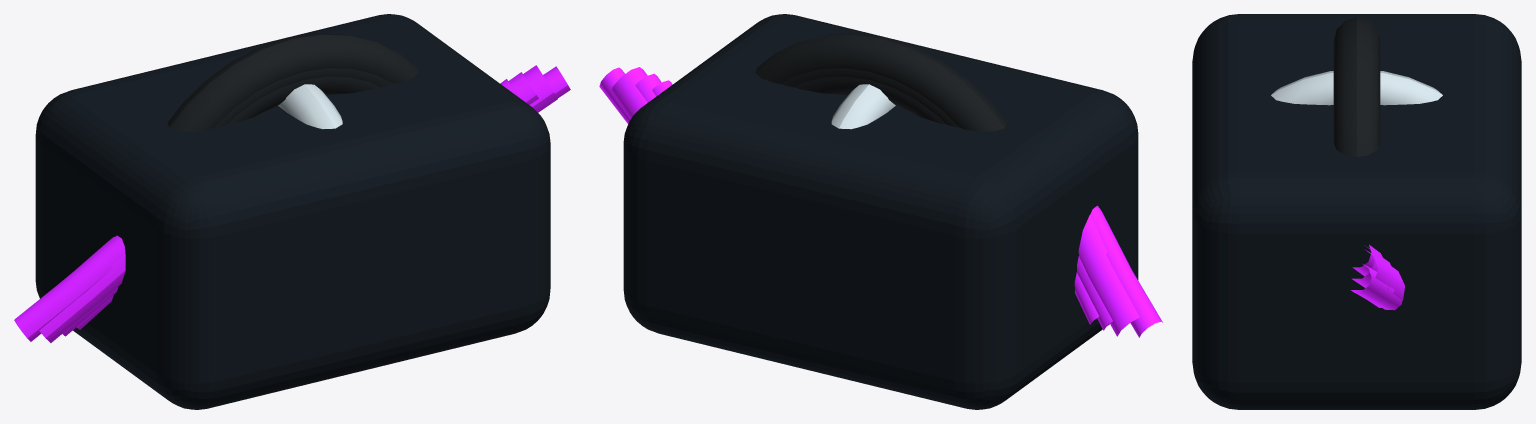
File: electrical_29.glb
3 renders of one model, left to right at view 1: azimuth 30°, elevation 25°; view 2: azimuth 150°, elevation 25°; view 3: azimuth 270°, elevation 25°, orthographic. The views are drawn at different scales.
Visible parts, largest first — view 1: asset_mesh__electrical_1385__reference_body, asset_mesh__electrical_1376__service_element, asset_mesh__electrical_1383__current_path, asset_mesh__electrical_1382__current_path, asset_mesh__electrical_1374__service_element, asset_mesh__electrical_1372__functional_ring, asset_mesh__electrical_1375__service_element, asset_mesh__electrical_1381__current_path; view 2: asset_mesh__electrical_1385__reference_body, asset_mesh__electrical_1376__service_element, asset_mesh__electrical_1382__current_path, asset_mesh__electrical_1383__current_path, asset_mesh__electrical_1374__service_element, asset_mesh__electrical_1372__functional_ring, asset_mesh__electrical_1375__service_element, asset_mesh__electrical_1381__current_path, asset_mesh__electrical_1389__current_path; view 3: asset_mesh__electrical_1385__reference_body, asset_mesh__electrical_1376__service_element, asset_mesh__electrical_1372__functional_ring, asset_mesh__electrical_1383__current_path, asset_mesh__electrical_1382__current_path.
Part boxes in pixels (x1,y1,x2,y2): asset_mesh__electrical_1385__reference_body: [35, 14, 550, 409]; asset_mesh__electrical_1376__service_element: [167, 33, 418, 131]; asset_mesh__electrical_1383__current_path: [14, 66, 570, 341]; asset_mesh__electrical_1382__current_path: [39, 65, 557, 342]; asset_mesh__electrical_1374__service_element: [228, 76, 379, 124]; asset_mesh__electrical_1372__functional_ring: [278, 84, 342, 129]; asset_mesh__electrical_1375__service_element: [214, 68, 393, 127]; asset_mesh__electrical_1381__current_path: [62, 72, 538, 336]; asset_mesh__electrical_1385__reference_body: [623, 14, 1138, 409]; asset_mesh__electrical_1376__service_element: [755, 33, 1006, 131]; asset_mesh__electrical_1382__current_path: [611, 67, 1139, 336]; asset_mesh__electrical_1383__current_path: [599, 67, 1162, 337]; asset_mesh__electrical_1374__service_element: [794, 76, 945, 124]; asset_mesh__electrical_1372__functional_ring: [831, 84, 895, 129]; asset_mesh__electrical_1375__service_element: [780, 68, 959, 127]; asset_mesh__electrical_1381__current_path: [635, 73, 1112, 330]; asset_mesh__electrical_1389__current_path: [652, 80, 1099, 324]; asset_mesh__electrical_1385__reference_body: [1192, 14, 1521, 409]; asset_mesh__electrical_1376__service_element: [1333, 17, 1380, 156]; asset_mesh__electrical_1372__functional_ring: [1271, 71, 1442, 105]; asset_mesh__electrical_1383__current_path: [1353, 264, 1402, 310]; asset_mesh__electrical_1382__current_path: [1350, 250, 1404, 307].
Bounding box in the file's own units: 1.54 × 0.9164 × 0.7728.
